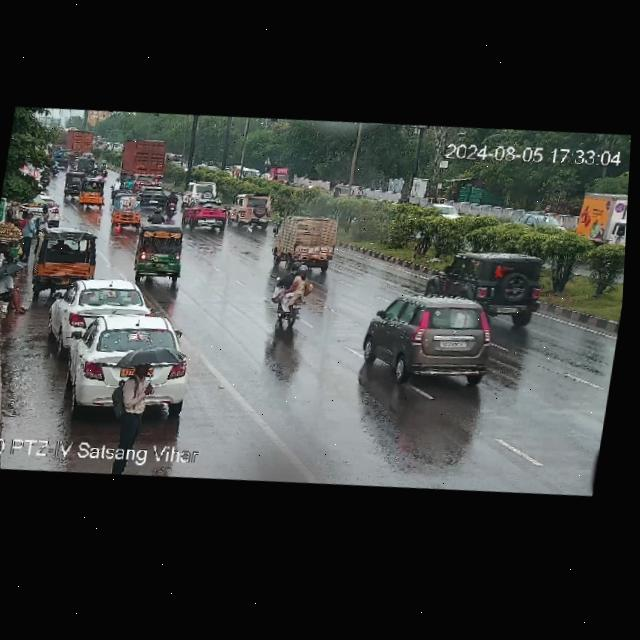car: (70, 309, 196, 417), (370, 291, 496, 384), (431, 243, 551, 329), (45, 269, 149, 346), (271, 214, 342, 270), (35, 229, 100, 283), (133, 228, 186, 287), (180, 197, 228, 230), (231, 190, 271, 228), (514, 209, 567, 234), (113, 190, 145, 227), (183, 176, 225, 204), (79, 178, 109, 208), (63, 170, 86, 199)
motorcycle: (270, 263, 309, 325), (161, 190, 182, 217), (146, 206, 168, 227)
person: (106, 352, 155, 476), (0, 265, 27, 313), (17, 215, 39, 254), (36, 207, 50, 234)
truck: (569, 188, 628, 249)
